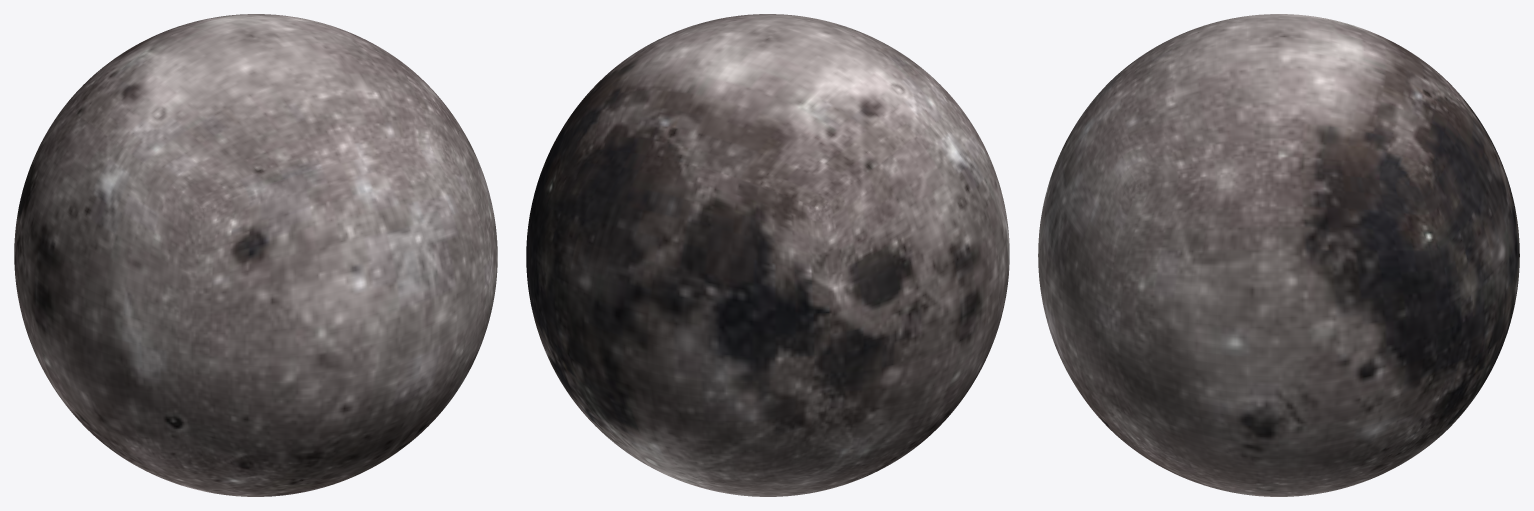
File: moon_small.glb
The picture shows the model from 3 angles, left to right: view 1: azimuth 30°, elevation 25°; view 2: azimuth 150°, elevation 25°; view 3: azimuth 270°, elevation 25°; orthographic projection.
Parts seen in each view (by area): view 1: Cube; view 2: Cube; view 3: Cube.
Part boxes in pixels (x1,y1,x2,y2): Cube: [14, 14, 497, 496]; Cube: [526, 14, 1009, 496]; Cube: [1038, 14, 1519, 496].
Bounding box in the file's own units: 2.54 × 2.54 × 2.54.
Materials: 1 (1 with a texture image).
